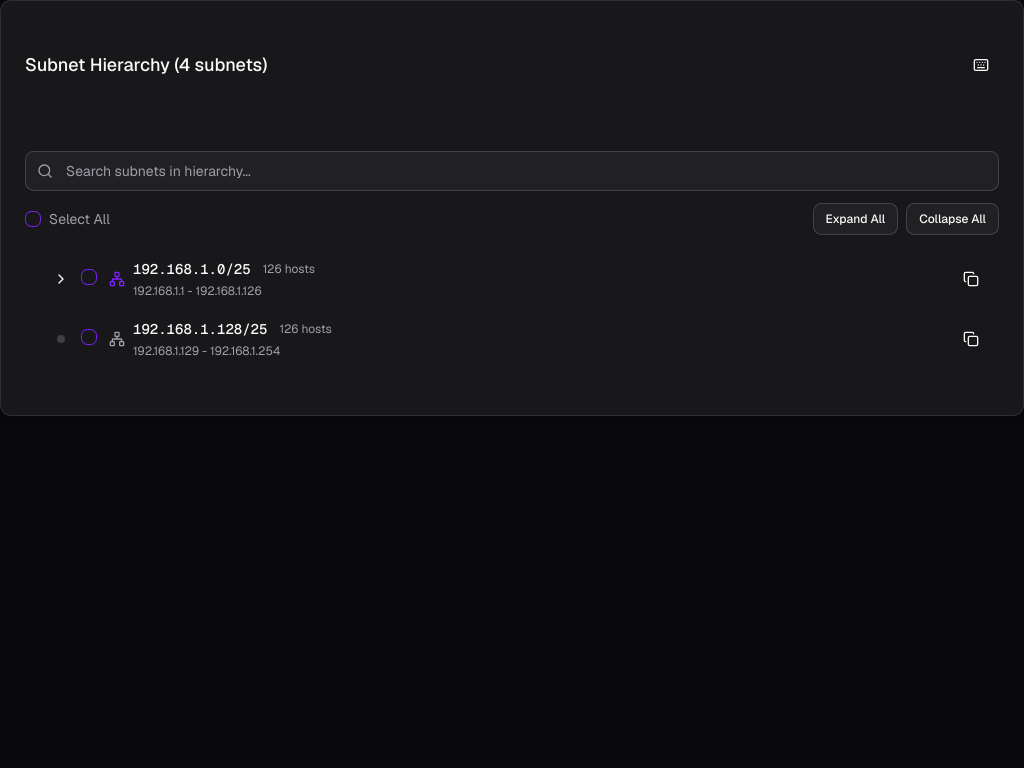
Test case: SubnetTree › expands and shows child subnets when expand button is clicked
Expected: the text "192.168.1.0/26" is not shown
// Click expand button for parent subnet
What coordinates should you click on to do the following:
click the button named "expand subnet"
I would click on:
 (61, 279)
Its box is [49,267,73,291].
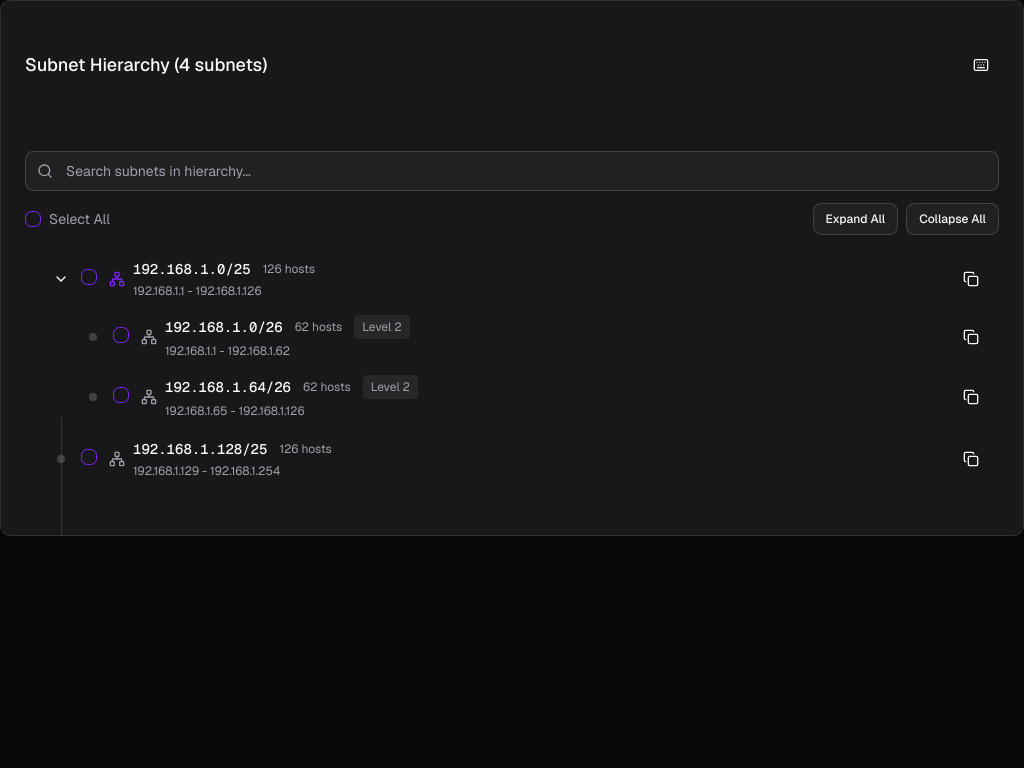
Result: the text "192.168.1.0/26" is shown at [165,317,283,337]
Result: the text "192.168.1.64/26" is shown at [165,377,291,397]
